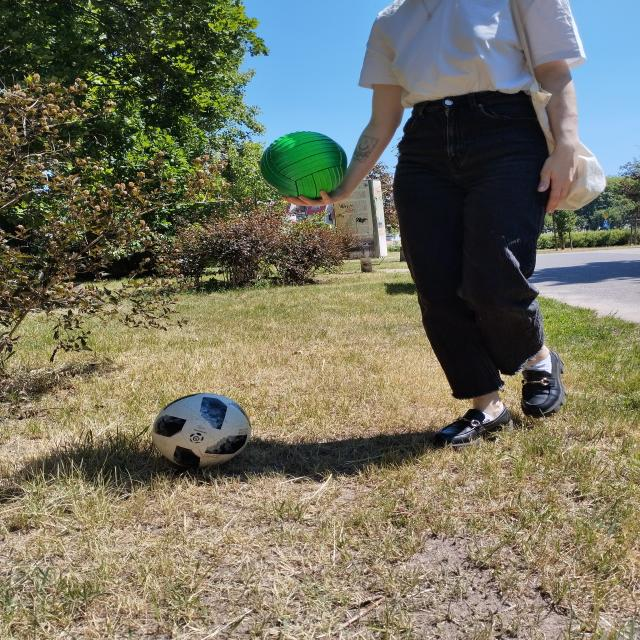nozna: (150, 393, 252, 468)
zielona: (259, 131, 348, 200)
